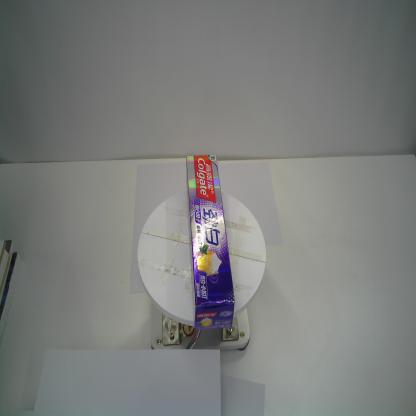Personal Hygiene: (185, 153, 236, 331)
